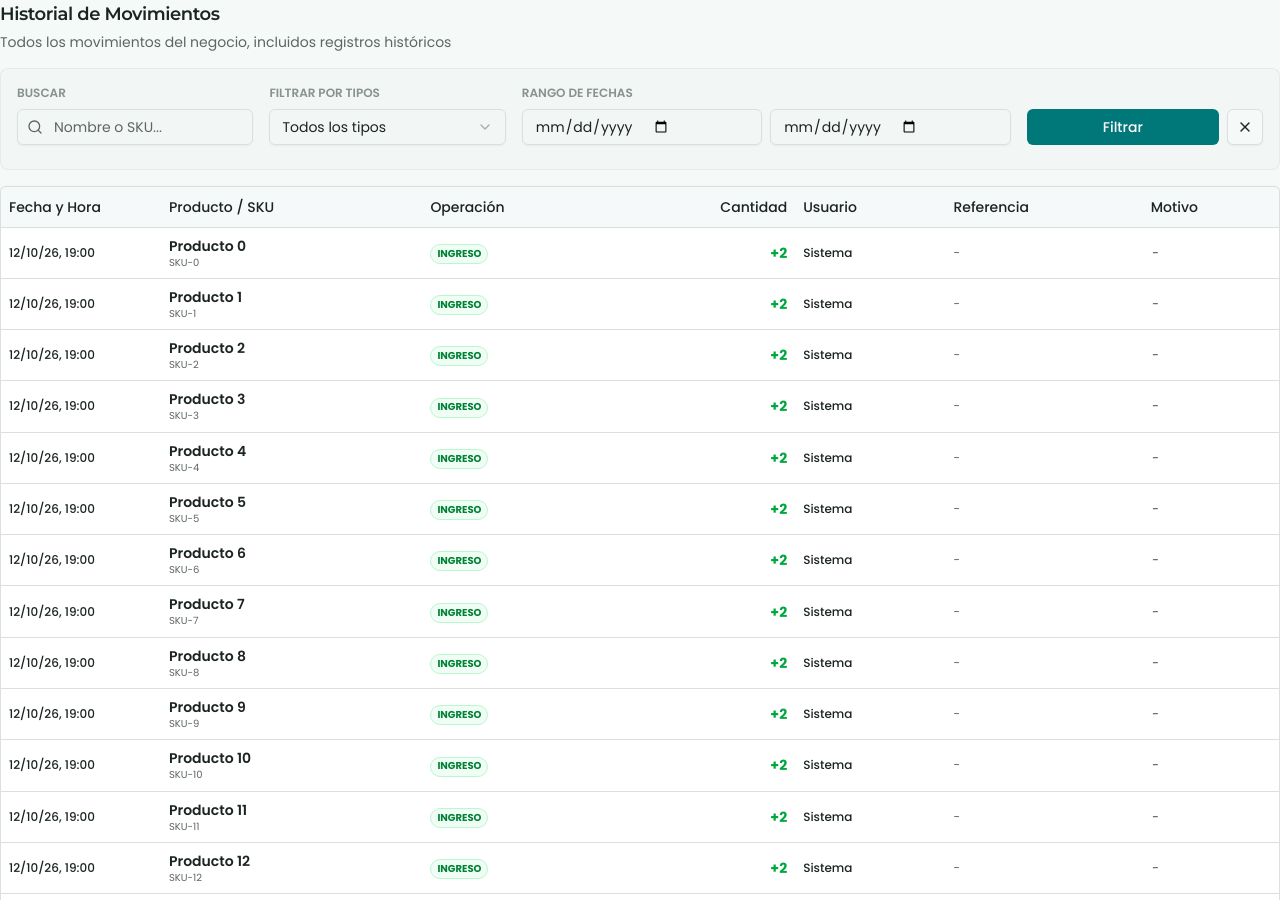
Scenario: paginates complete history and searches later pages without dropping same-day records
The width and height of the screenshot is (1280, 900).
Expected: the text "Producto 0" is shown, [169,236,246,256]
Expected: the text "Producto 16" is not shown
Type "SKU-16" into the field with placeholder "Nombre o SKU..." at (135, 127), box [17,109,253,145]
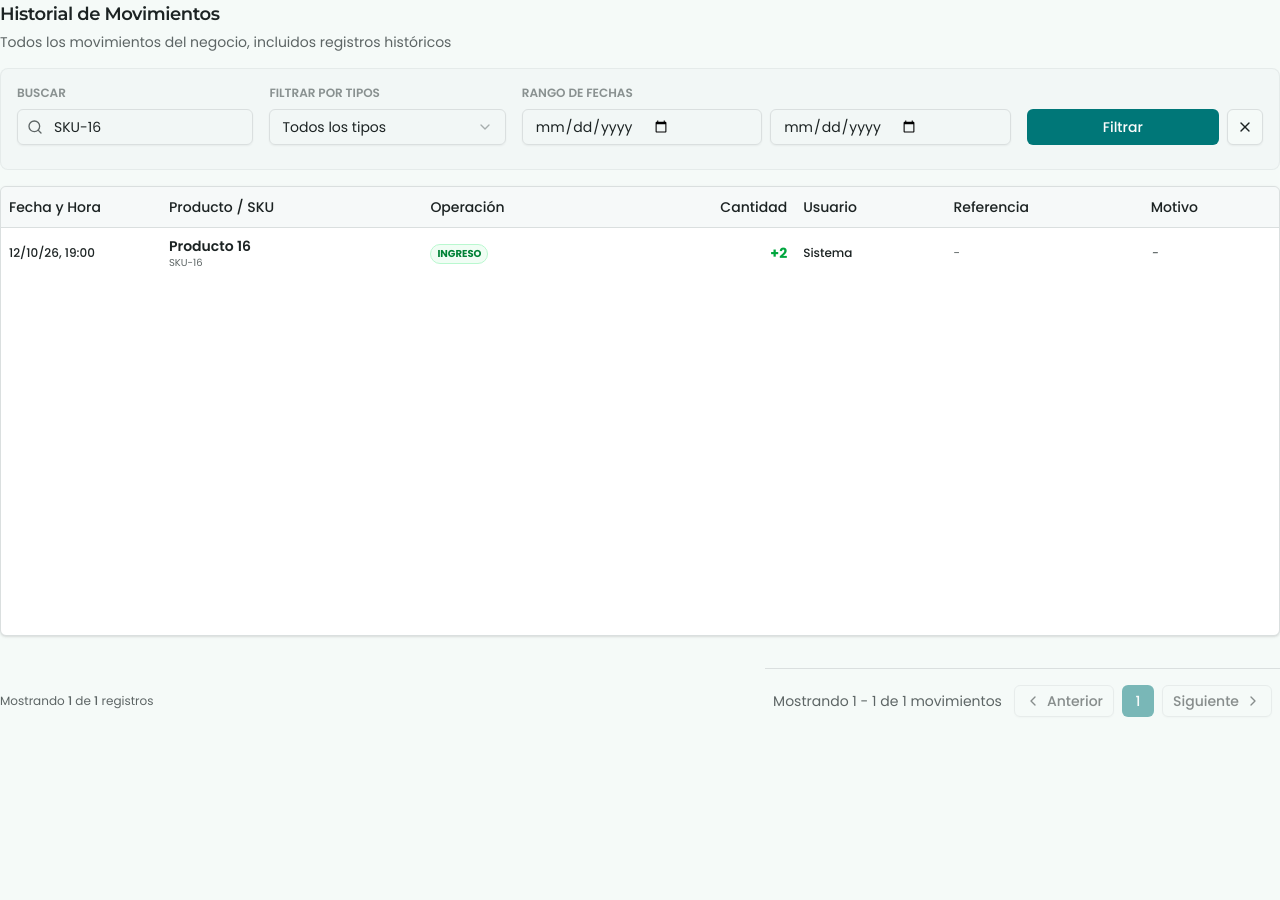
Expected: the text "incluidos registros históricos" is shown, [0,32,451,52]
Expected: the text "Producto 16" is shown, [169,236,251,256]
